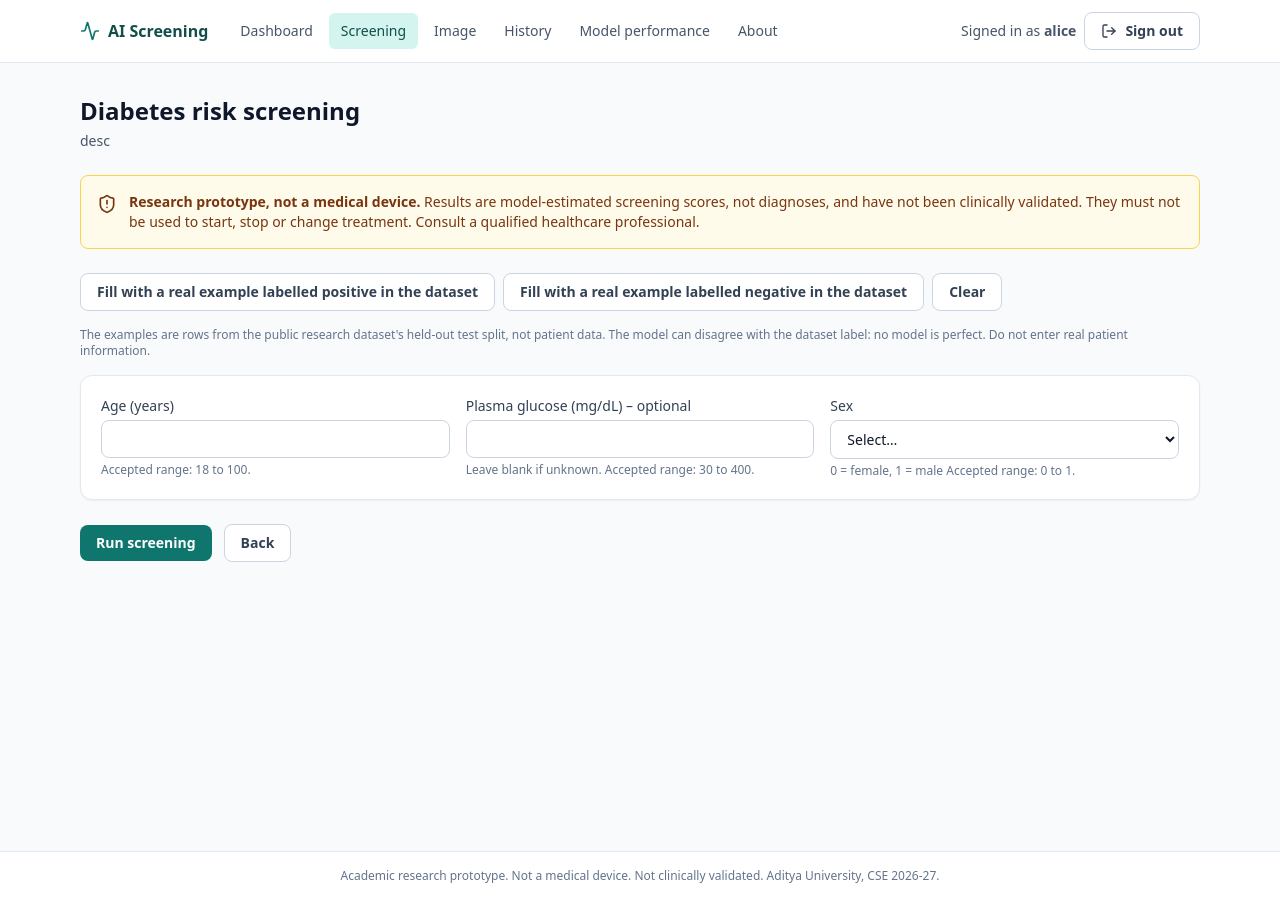
Test case: module selection and screening form › fills a real dataset example when asked
Click the button "Fill with a real example labelled positive in the dataset" at (288, 292), box [80,273,495,311]
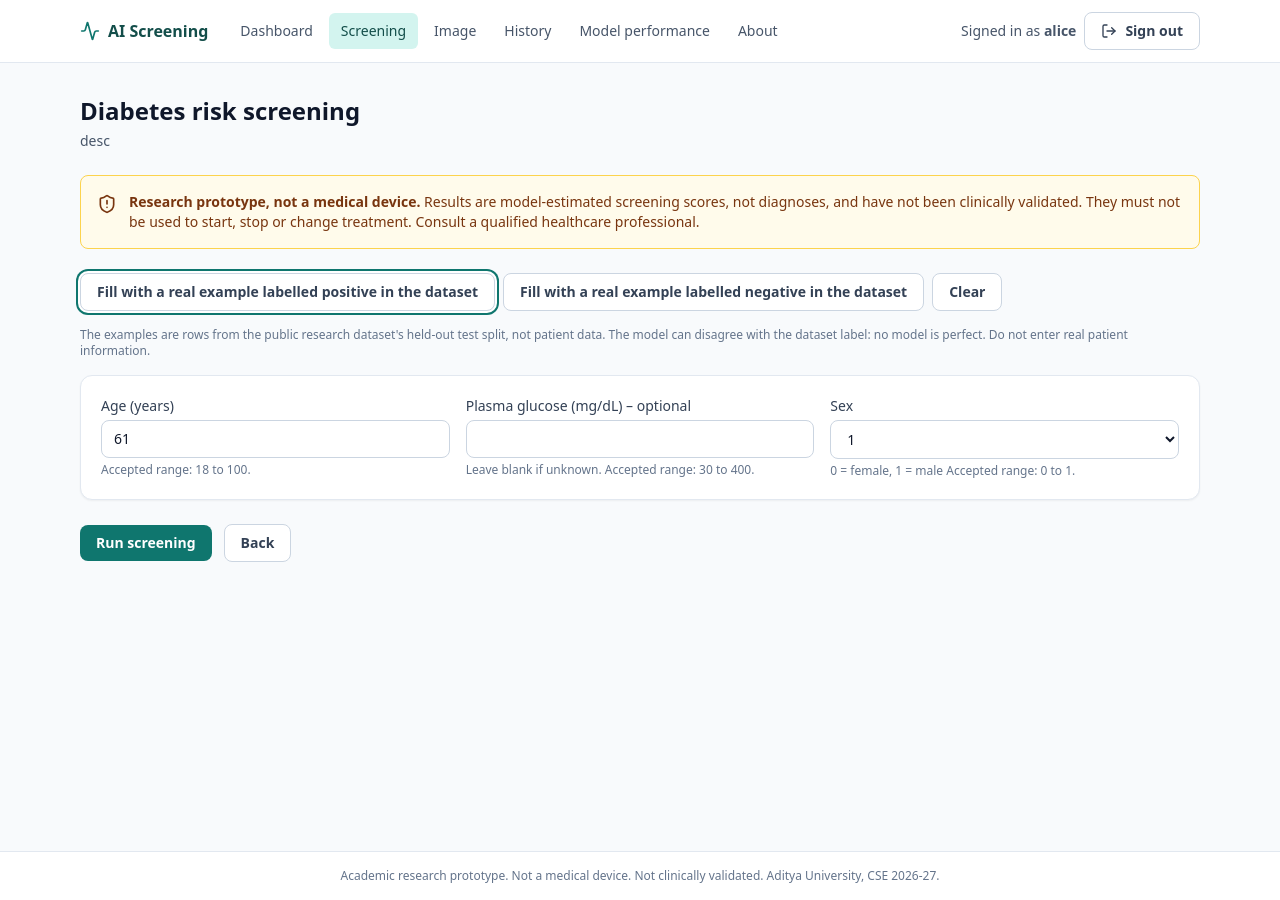
Expected: the number field labelled "Plasma glucose (mg/dL) – optional" is not empty, [466,420,814,458]
Result: the number field labelled "Age (years)" holds "61" at [101,420,450,458]
